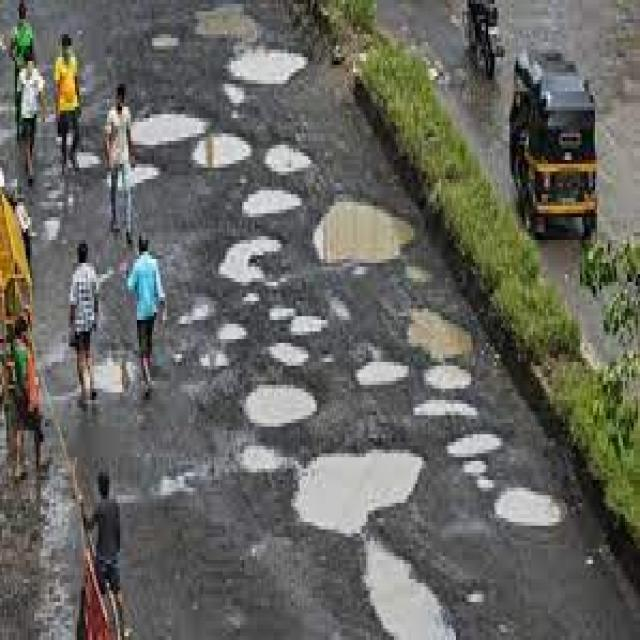Pothole: (295, 453, 426, 533), (364, 541, 456, 640), (313, 202, 415, 263), (244, 385, 317, 430), (494, 488, 563, 530), (411, 312, 473, 358), (193, 133, 250, 168), (445, 423, 501, 453), (244, 190, 302, 217)
